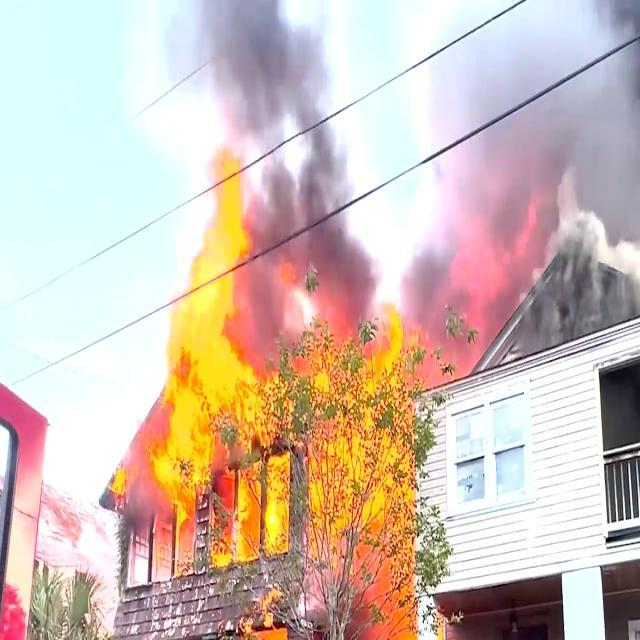Fire: (310, 328, 395, 640), (167, 154, 240, 470), (249, 368, 296, 538)
Smoke: (447, 7, 640, 237), (269, 165, 382, 323), (224, 2, 325, 136)
